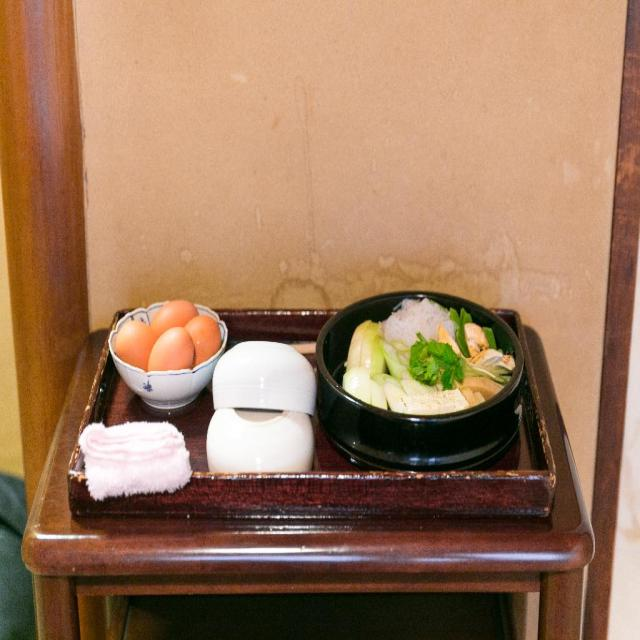Egg: (116, 297, 221, 370), (147, 327, 195, 378)
